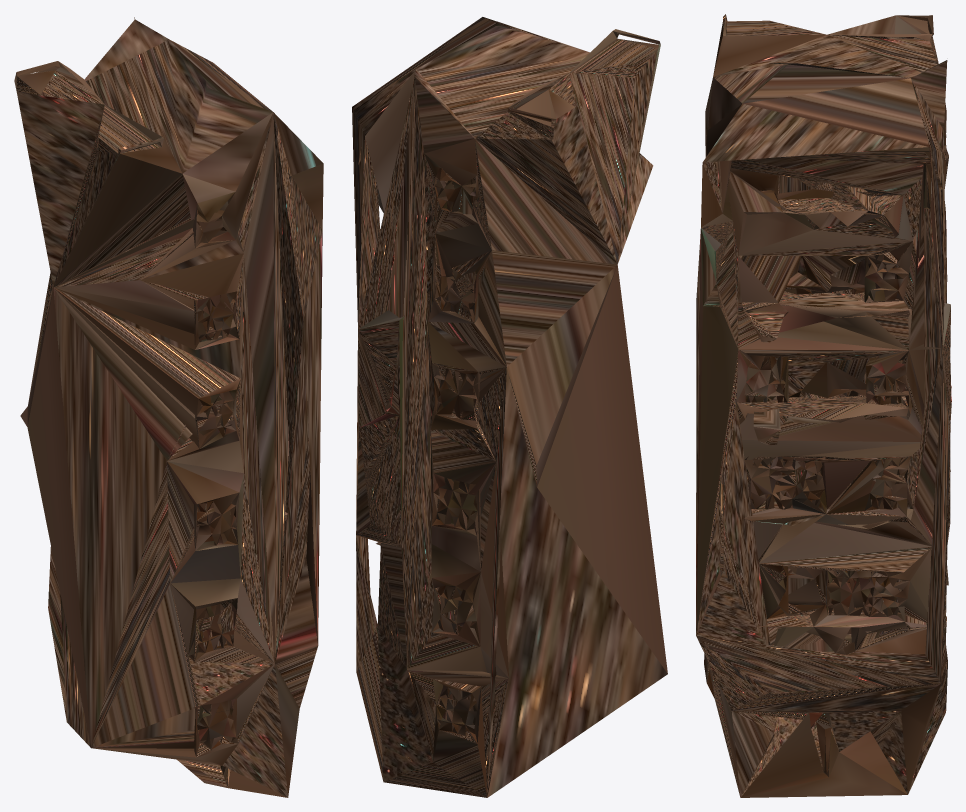
Rendered from o03_far.glb.
3 views of the same model, side by side, from view 1: azimuth 30°, elevation 25°; view 2: azimuth 150°, elevation 25°; view 3: azimuth 270°, elevation 25° (orthographic). The views are drawn at different scales.
Visible parts, largest first — view 1: o03_far; view 2: o03_far; view 3: o03_far.
Part boxes in pixels (box(x1,y1,x2,y2)): o03_far: box(14, 17, 323, 797); o03_far: box(352, 17, 667, 797); o03_far: box(696, 14, 951, 797).
Size of the model in its own units: 9.59 by 30 by 9.67.
Materials: 1 (1 with a texture image).
